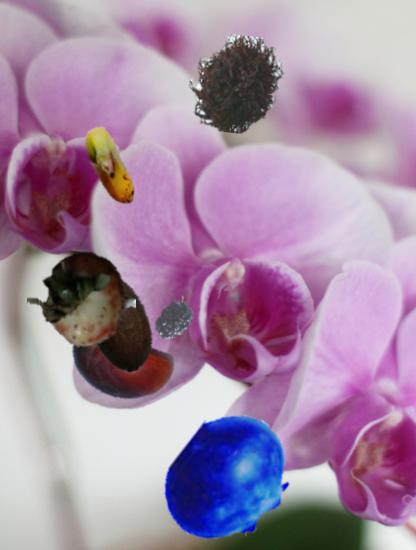Banana: (67, 124, 153, 210)
Chestnut: (65, 313, 173, 421)
Huckleberry: (161, 412, 298, 549)
Mulberry: (153, 297, 205, 349)
Nut: (65, 264, 174, 373)
Rambutan: (187, 35, 286, 134)
Strawberry: (27, 245, 137, 355)
